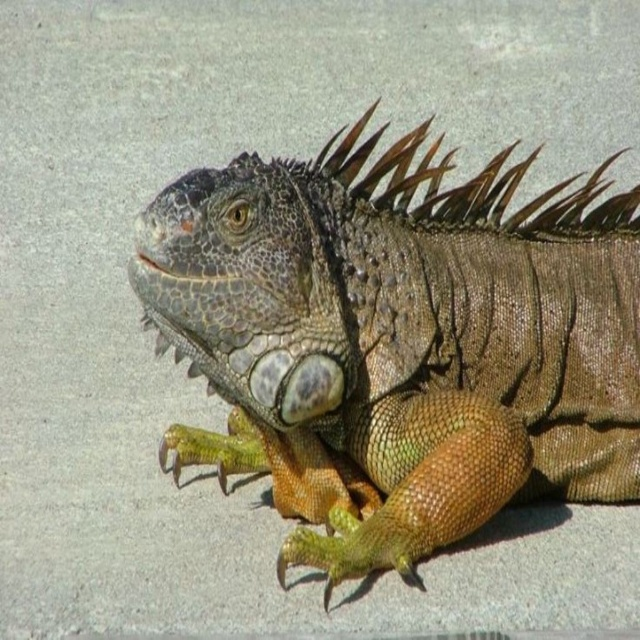Lizard: (141, 91, 635, 640)
